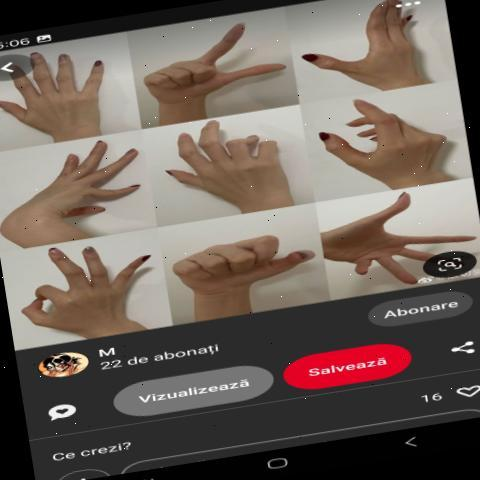Hands: (15, 235, 186, 338), (316, 185, 473, 289), (143, 125, 318, 212), (292, 4, 449, 91), (2, 48, 128, 141)
